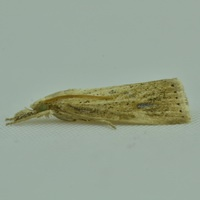insect: (6, 78, 190, 127)
